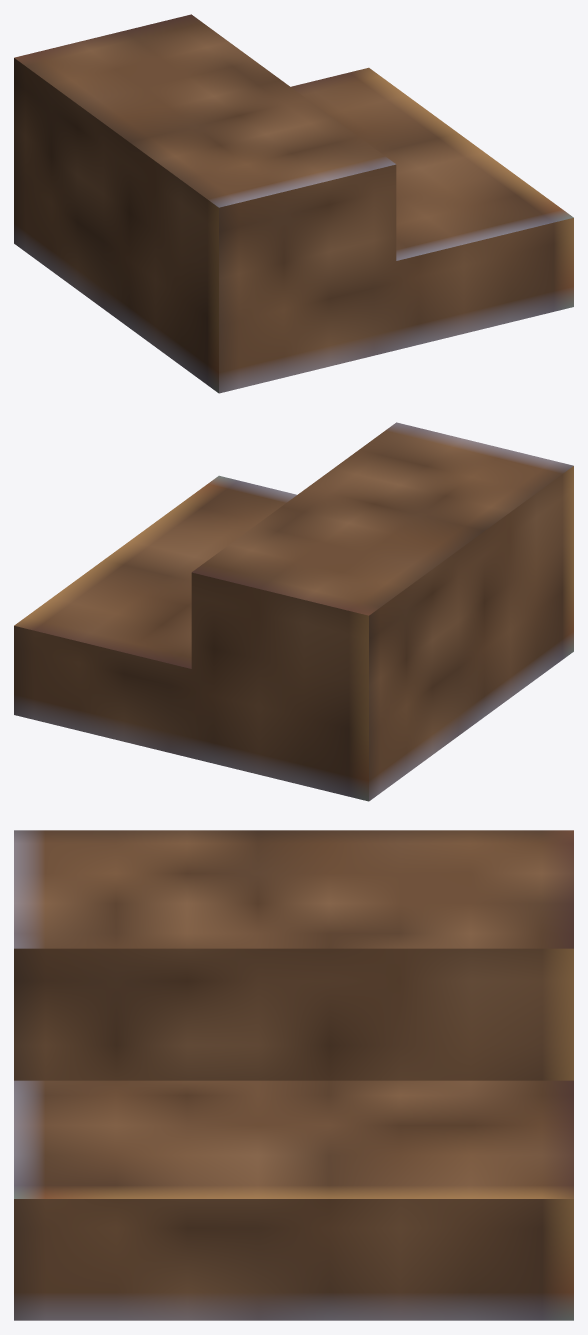
Rendered from Grass_Destroy_Step4.fbx.
3 renders of one model, top to bottom at view 1: azimuth 30°, elevation 25°; view 2: azimuth 150°, elevation 25°; view 3: azimuth 270°, elevation 25°, orthographic. The views are drawn at different scales.
Visible parts, largest first — view 1: Grass_Destroy_Step4; view 2: Grass_Destroy_Step4; view 3: Grass_Destroy_Step4.
Part boxes in pixels (x1,y1,x2,y2): Grass_Destroy_Step4: (14, 14, 573, 393); Grass_Destroy_Step4: (14, 422, 573, 801); Grass_Destroy_Step4: (14, 830, 573, 1320).
Bounding box in the file's own units: 25 × 12.5 × 25.
1 material, 1 textured.
